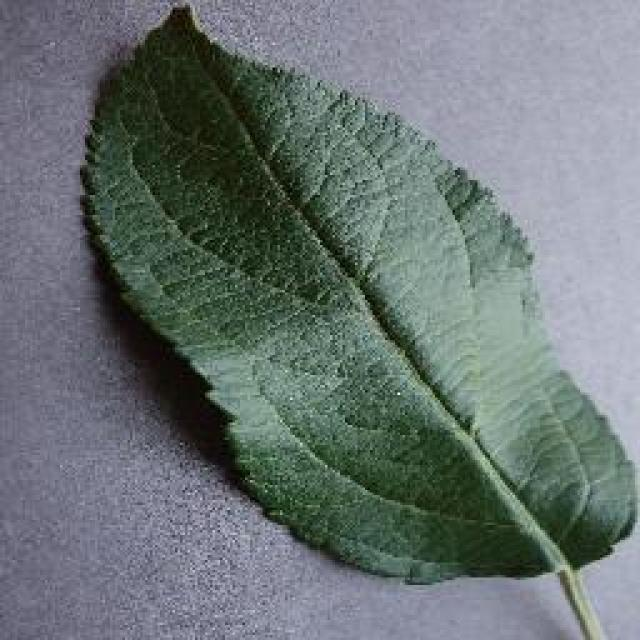apple healthy: (75, 0, 637, 638)
